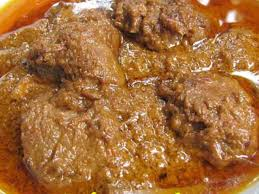rendang: (1, 1, 259, 187)
